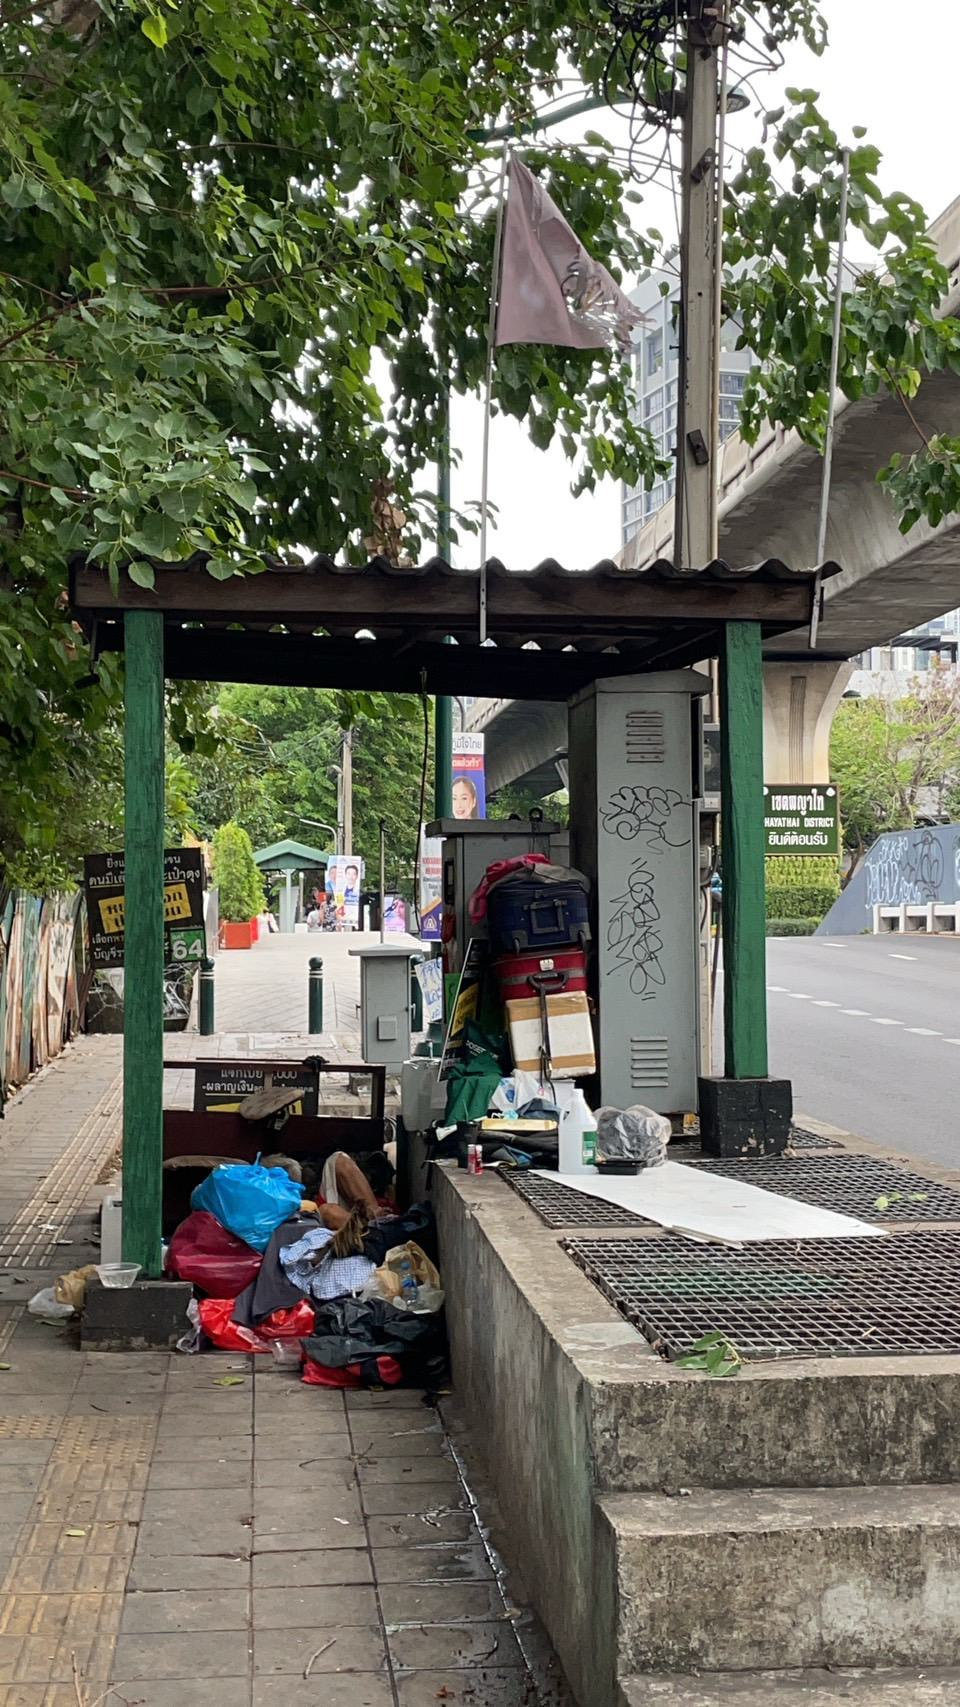Banner: (440, 732, 484, 829), (331, 861, 363, 929)
